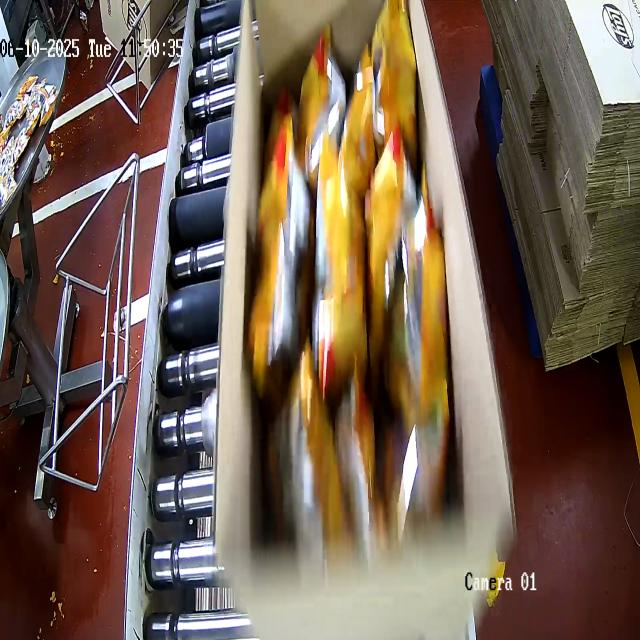FRENCH_CHEESE: (251, 8, 461, 540)
